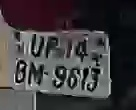1: (65, 36, 74, 61), (80, 66, 87, 91)
3: (88, 67, 102, 94)
4: (75, 38, 89, 63)
6: (67, 63, 80, 92)
9: (52, 62, 67, 92)
B: (15, 59, 27, 85)
M: (25, 61, 46, 88)
P: (46, 36, 58, 61)
U: (28, 32, 43, 58)
